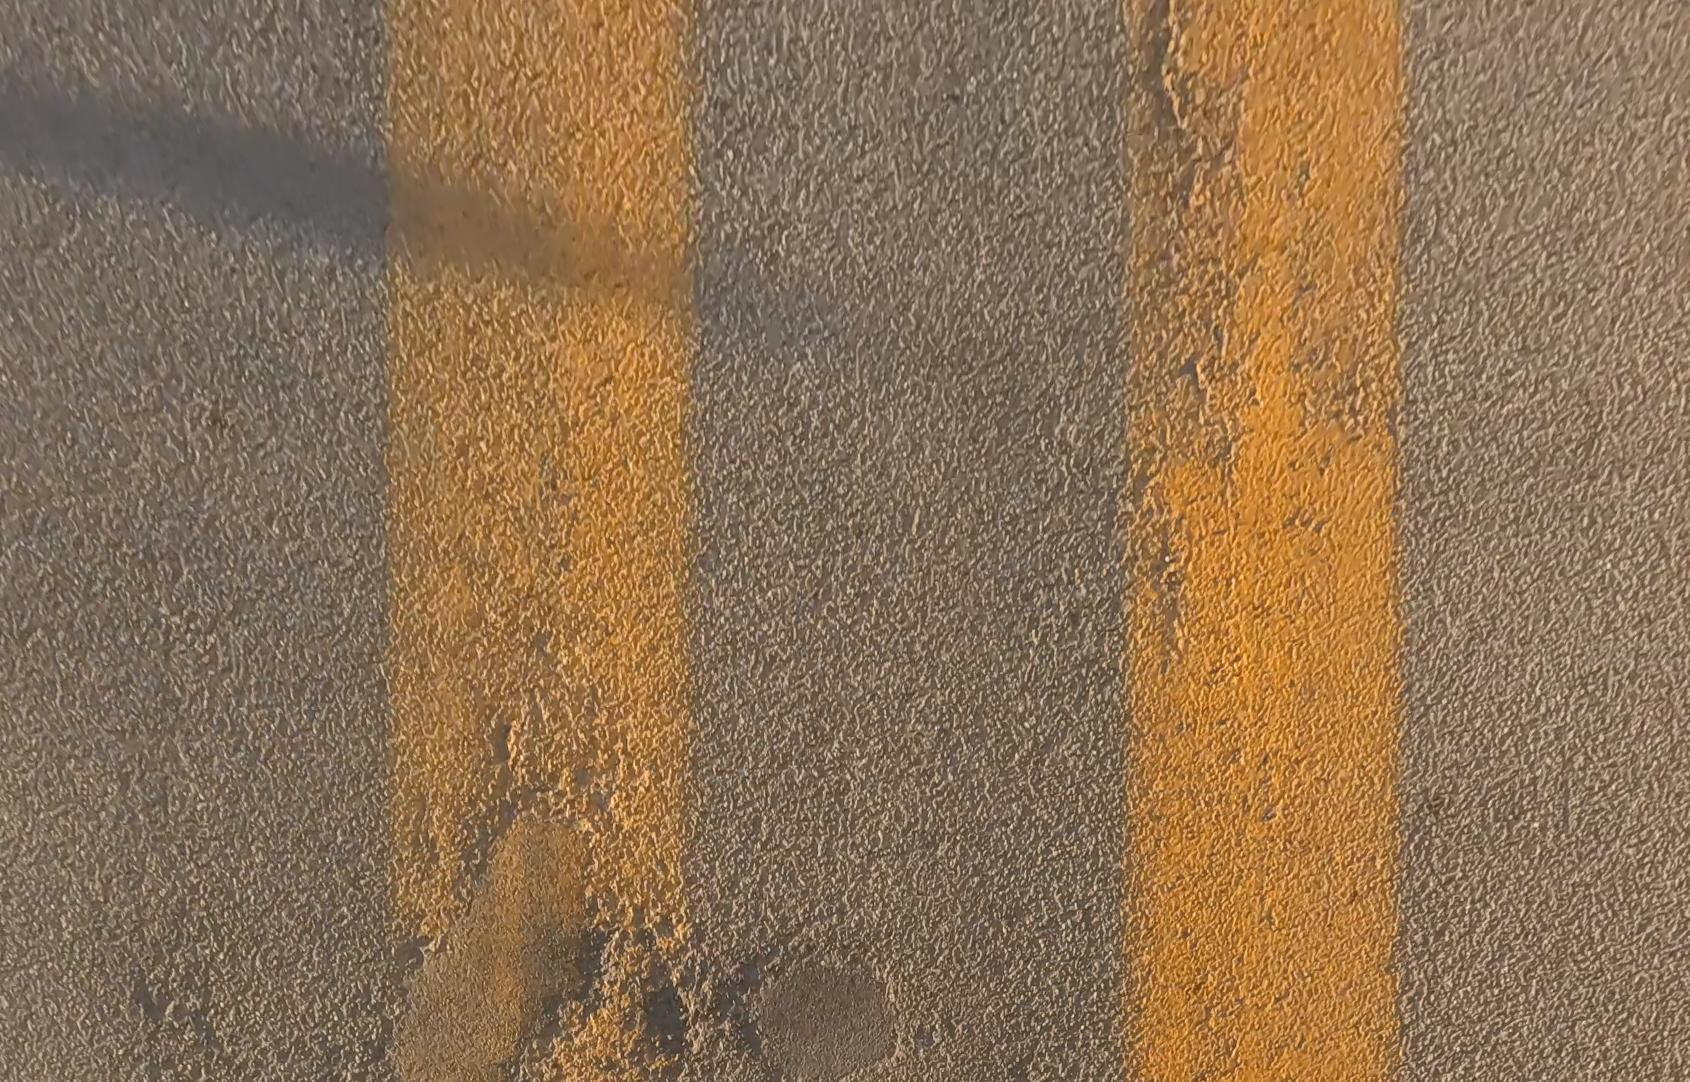pothole_patch_good: (371, 811, 620, 1080), (735, 951, 896, 1080)
